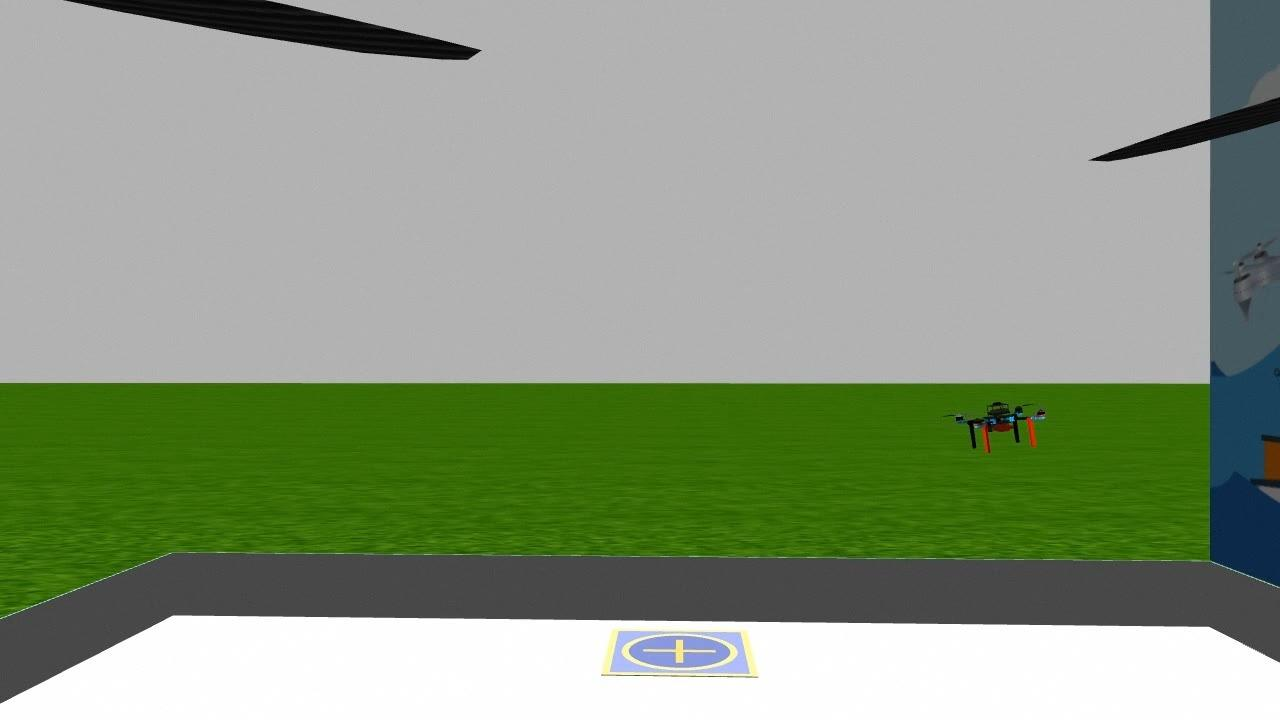UAV: (951, 393, 1050, 466)
